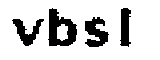b: (47, 5, 77, 48)
l: (117, 5, 140, 50)
s: (83, 19, 112, 50)
v: (9, 17, 44, 48)
